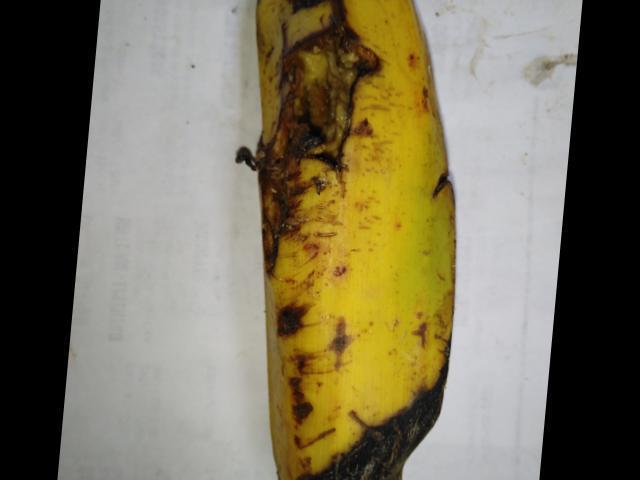ripe: (233, 0, 459, 395)
rotten: (193, 0, 398, 274), (266, 370, 466, 479)
